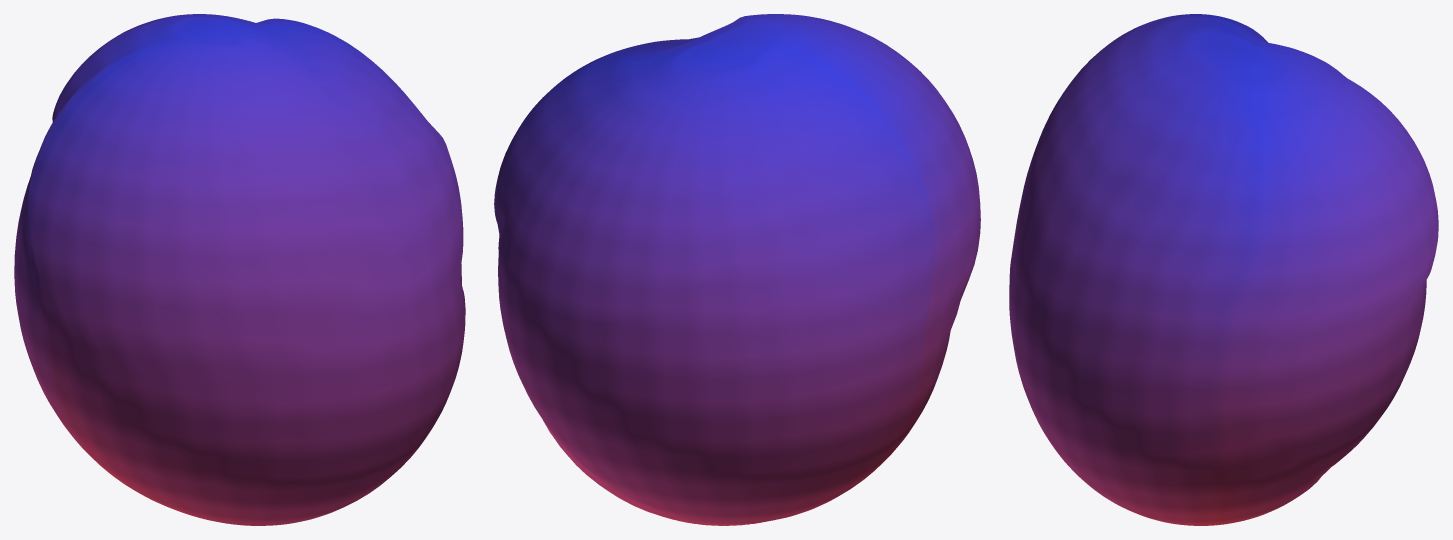
File: Mode-03-Mid.gltf
3 renders of one model, left to right at view 1: azimuth 30°, elevation 25°; view 2: azimuth 150°, elevation 25°; view 3: azimuth 270°, elevation 25°, orthographic. The views are drawn at different scales.
Visible parts, largest first — view 1: Organism; view 2: Organism; view 3: Organism.
Part boxes in pixels (x1,y1,x2,y2): Organism: (14,14,465,525); Organism: (494,14,980,525); Organism: (1009,14,1438,525).
Bounding box in the file's own units: 1.72 × 1.93 × 1.68.
1 material, 1 textured.
